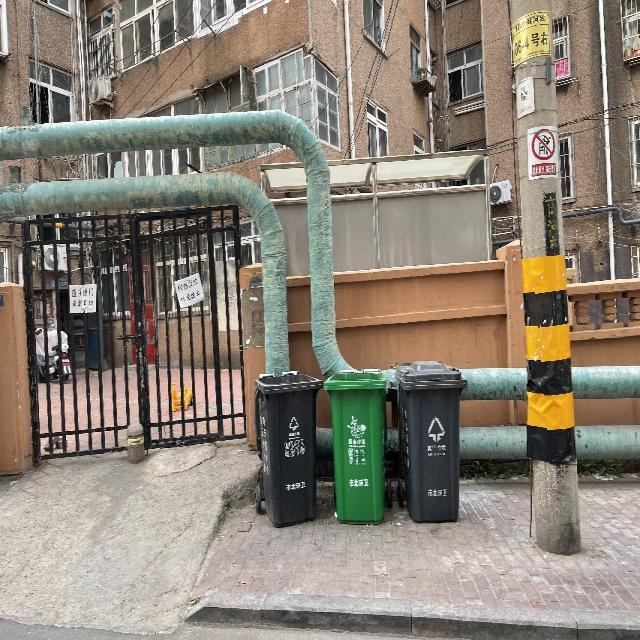garbage_bin: (394, 359, 467, 522), (253, 370, 322, 527), (323, 369, 388, 524)
